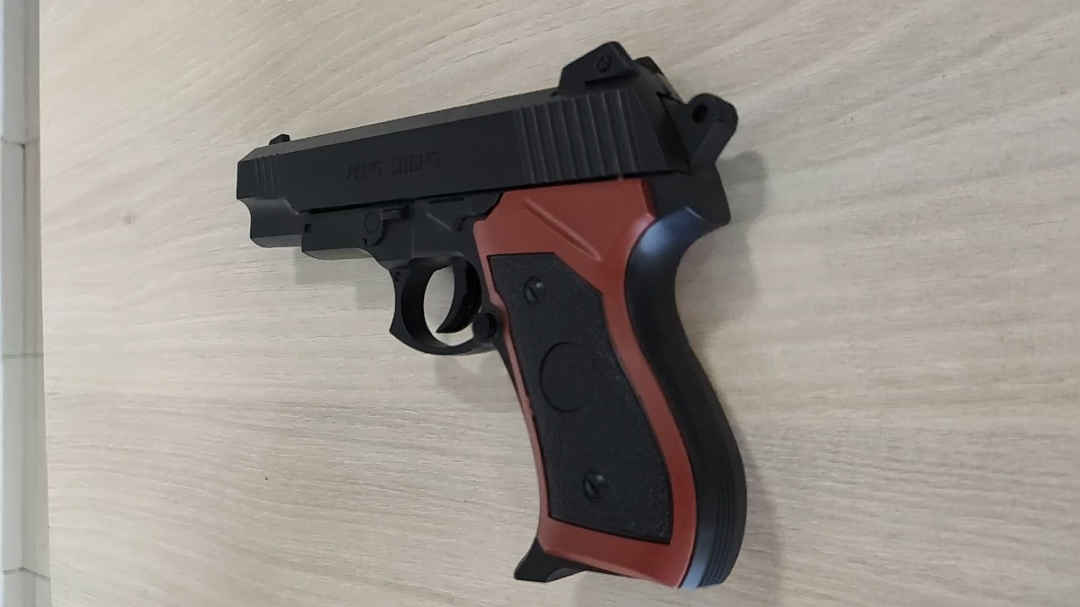gun: (235, 38, 753, 591)
